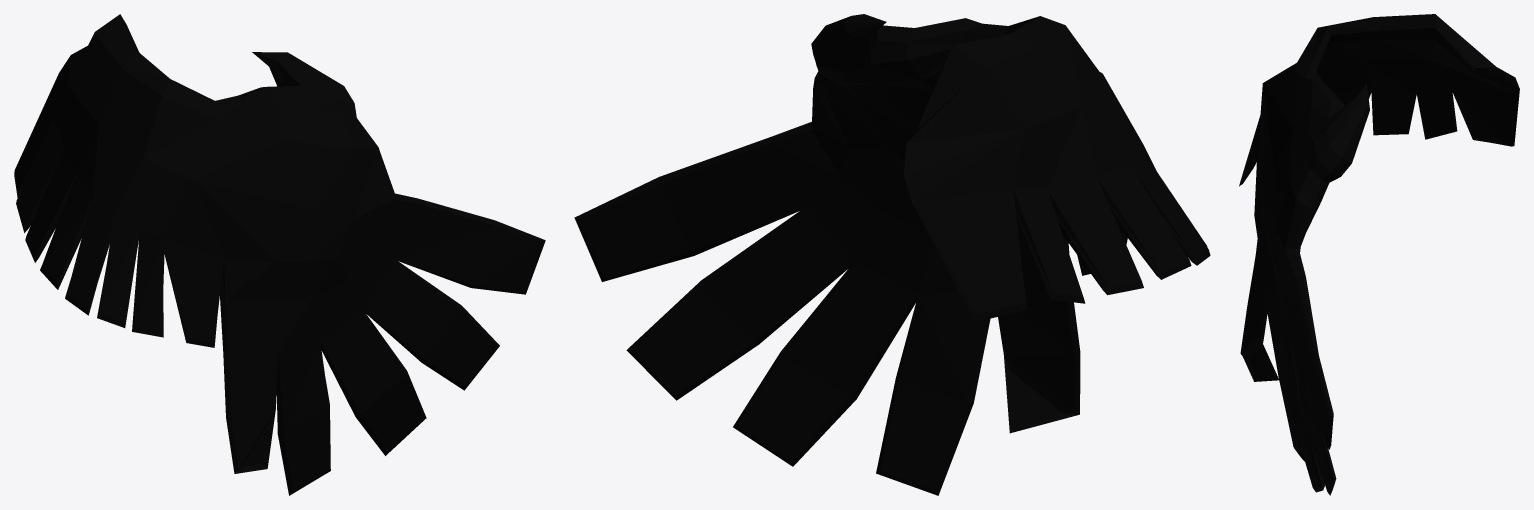
The model's file is 0517_zuoci003.glb.
The picture shows the model from 3 angles, left to right: view 1: azimuth 30°, elevation 25°; view 2: azimuth 150°, elevation 25°; view 3: azimuth 270°, elevation 25°; orthographic projection. The views are drawn at different scales.
Bounding box in the file's own units: 2.2 × 1.89 × 1.22.
Materials: 1 (1 with a texture image).
